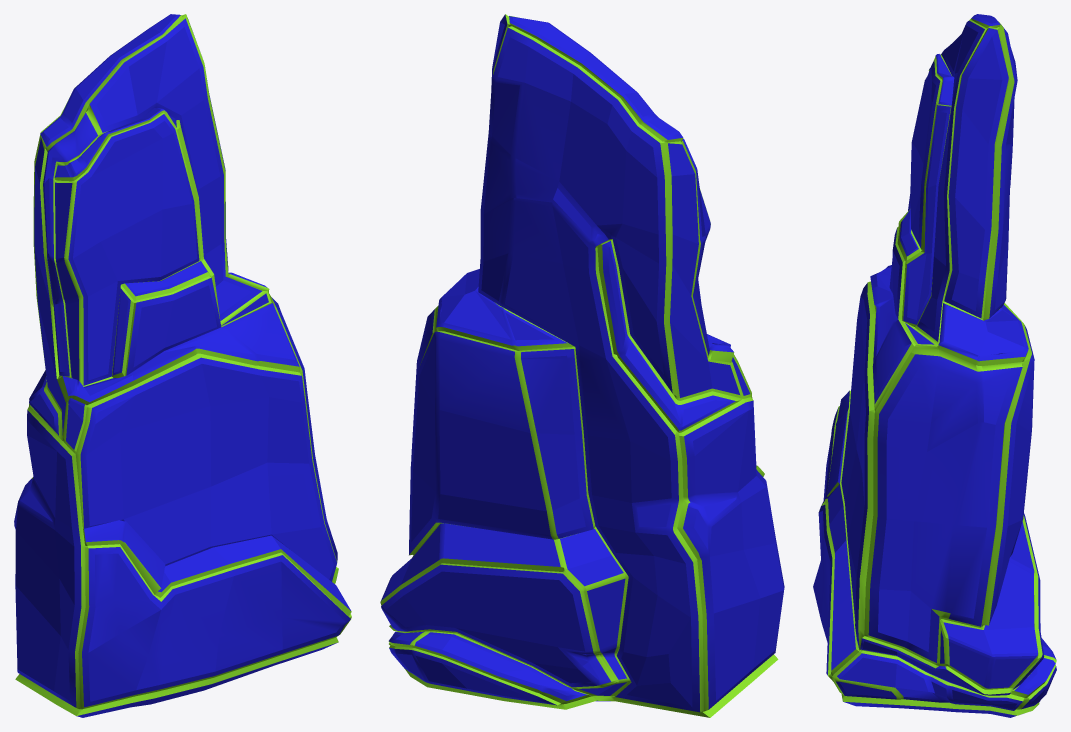
File: smoothedprimerapiedra (1).fbx
3 renders of one model, left to right at view 1: azimuth 30°, elevation 25°; view 2: azimuth 150°, elevation 25°; view 3: azimuth 270°, elevation 25°, orthographic. The views are drawn at different scales.
Visible parts, largest first — view 1: Roca3; view 2: Roca3; view 3: Roca3.
Part boxes in pixels (x1,y1,x2,y2): Roca3: (14, 14, 351, 717); Roca3: (380, 14, 784, 717); Roca3: (813, 14, 1056, 717).
Bounding box in the file's own units: 6.81 × 4.67 × 14.02.
